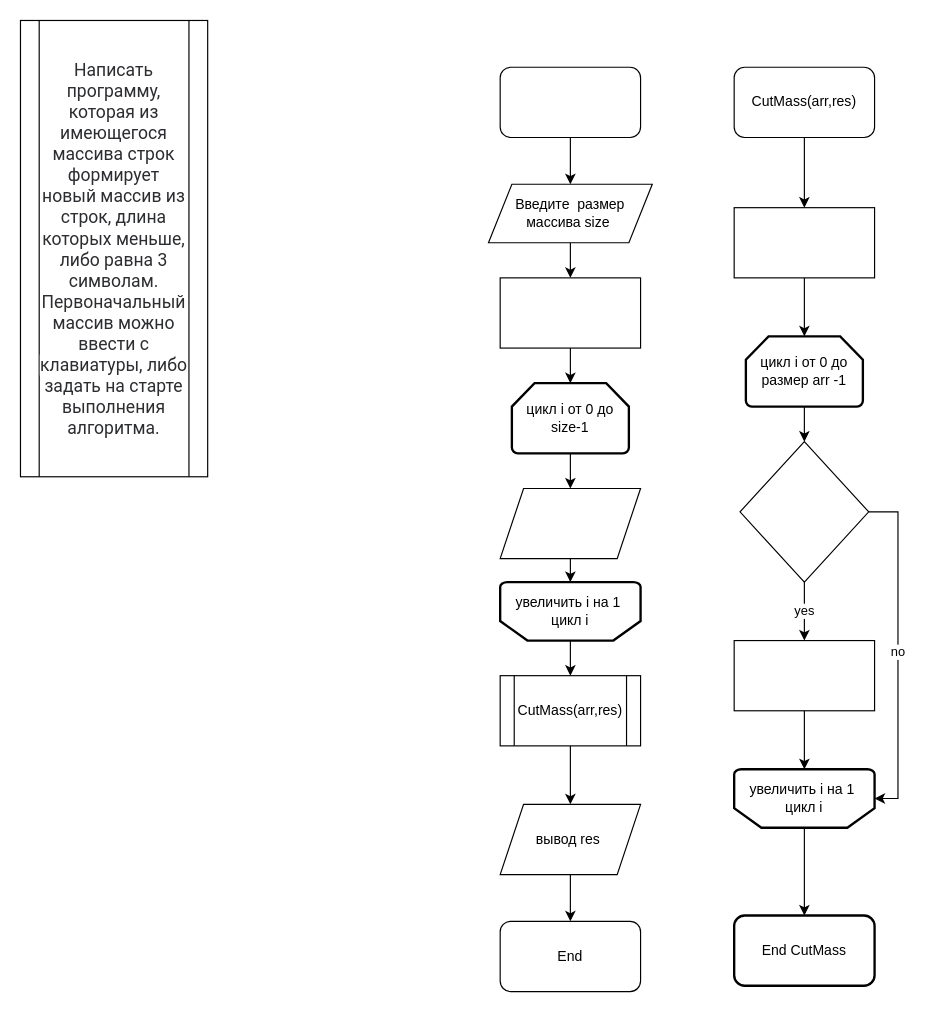
This 928x1012 diagram has some shape labels left out. The shapes that lost their labels are listed below. From the top down, each one's centre as x and y in pixels, then its label:
At pixel 570 101: "Start".
At pixel 804 242: "k=0".
At pixel 570 312: "arr [ size ] res [ size ]".
At pixel 570 523: "введите элемент массива arr[ i ]".
At pixel 804 511: "длинна элемента arr [ i ]<=3?".
At pixel 804 675: "res [k ]=arr [i ] k=k+1".
